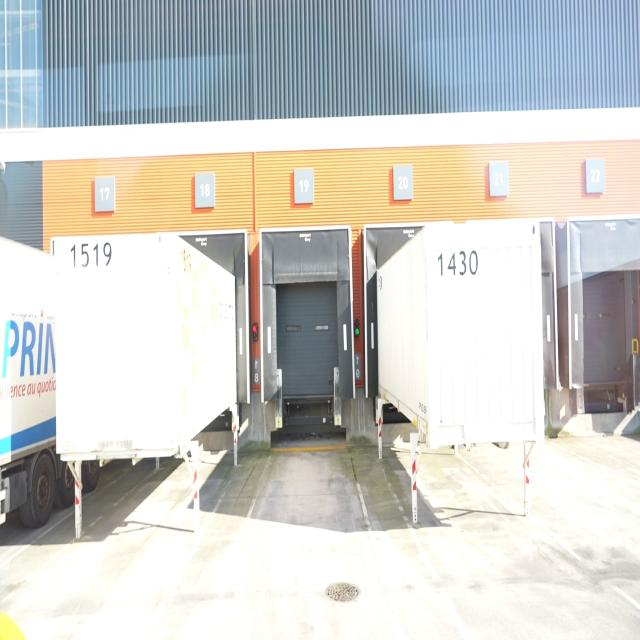Code: (432, 246, 480, 282), (69, 237, 113, 273)
